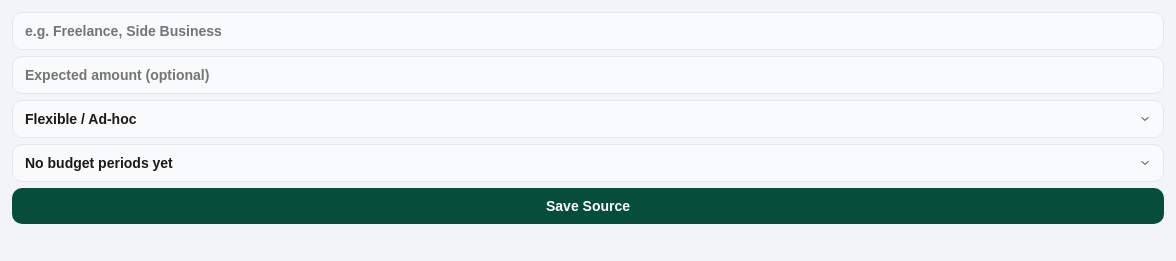
Scenario: AddIncomeSourceForm › refuses to save when the hub has no periods at all
Type "Freelance" into the field with test id "new-source-label" at (588, 31), box [12, 12, 1164, 50]
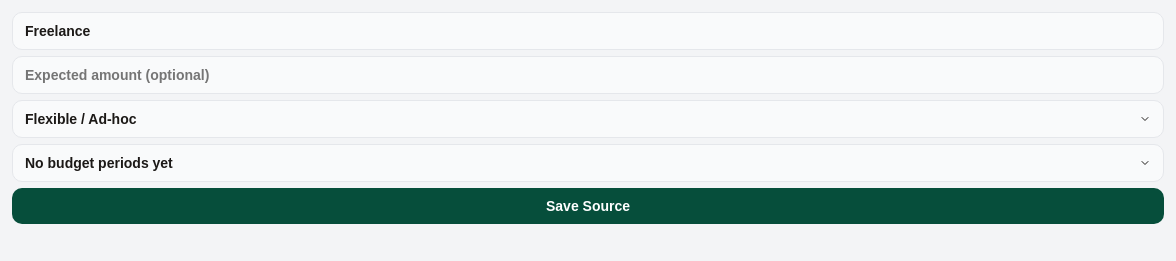
Click the button with test id "save-income-source-btn" at (588, 206), box [12, 188, 1164, 224]
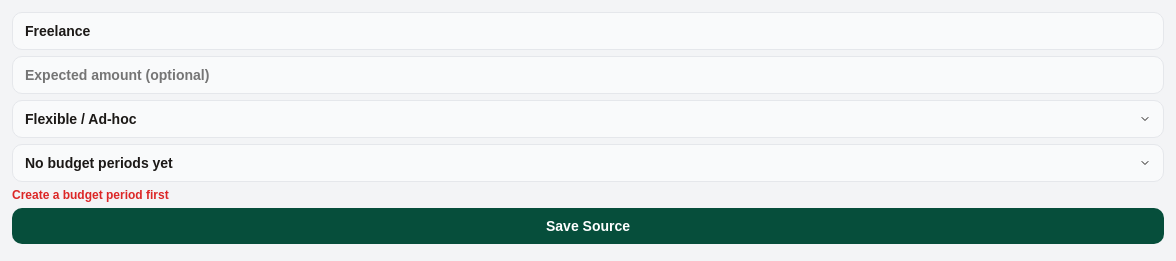
Expected: the text "Create a budget period first" is shown, [12, 188, 169, 202]
